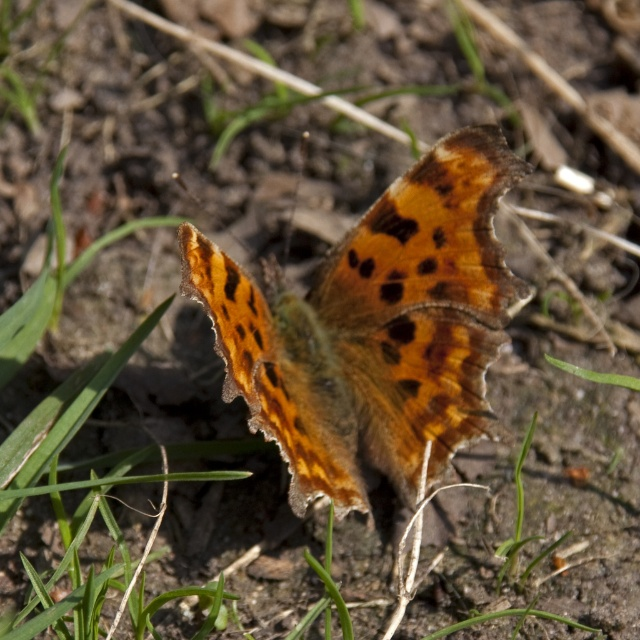Butterfly: (148, 123, 529, 594)
